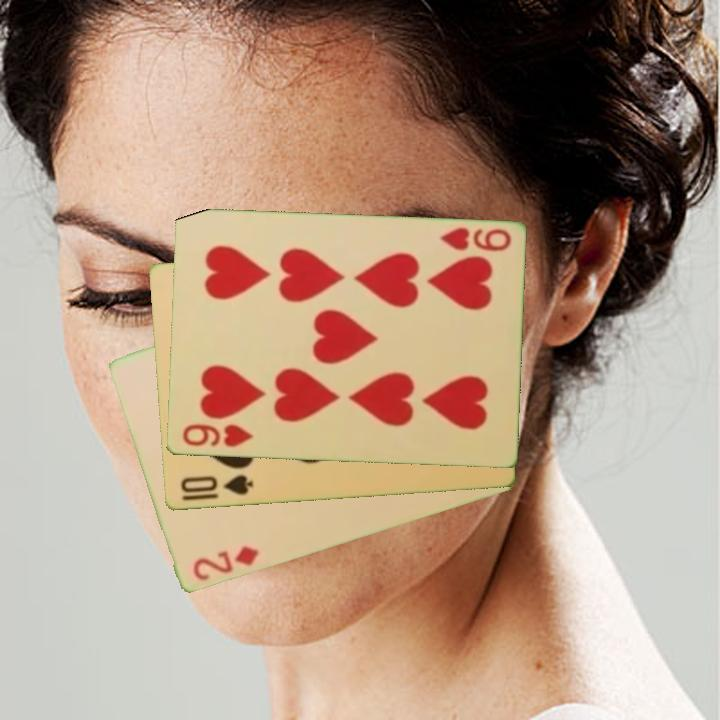10s: (177, 471, 255, 499)
2d: (189, 543, 261, 584)
9h: (436, 224, 513, 255), (179, 421, 255, 450)
